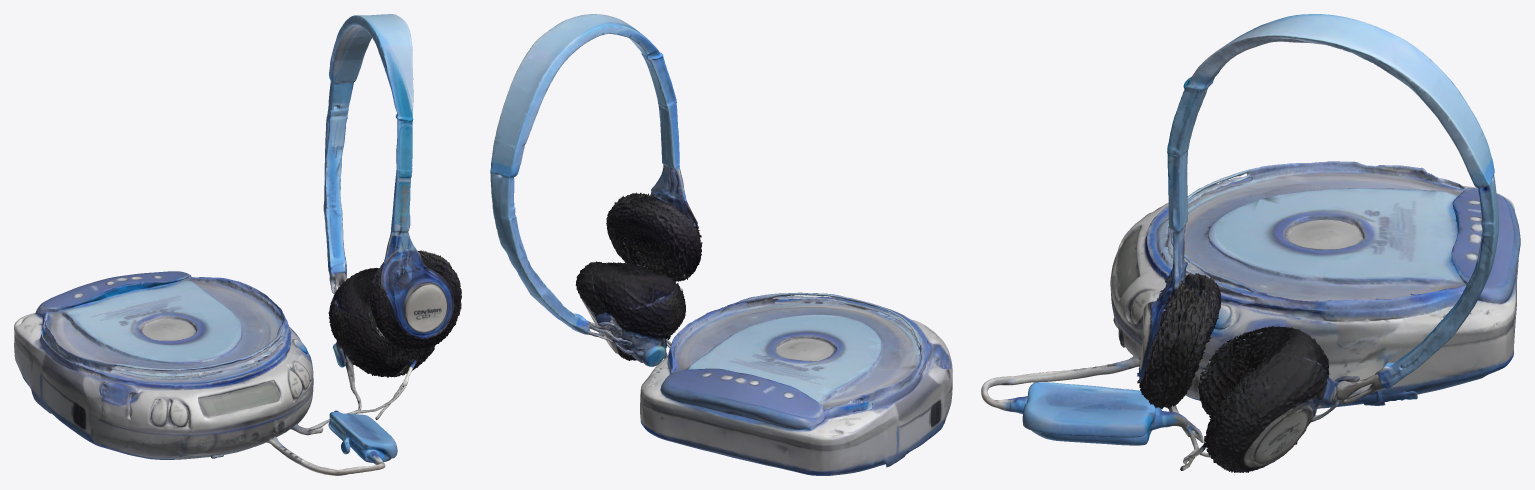
Rendered from cdplayer.glb.
3 views of the same model, side by side, from view 1: azimuth 30°, elevation 25°; view 2: azimuth 150°, elevation 25°; view 3: azimuth 270°, elevation 25° (orthographic). The views are drawn at different scales.
Size of the model in its own units: 2 by 1.88 by 1.88.
1 material, 1 textured.
